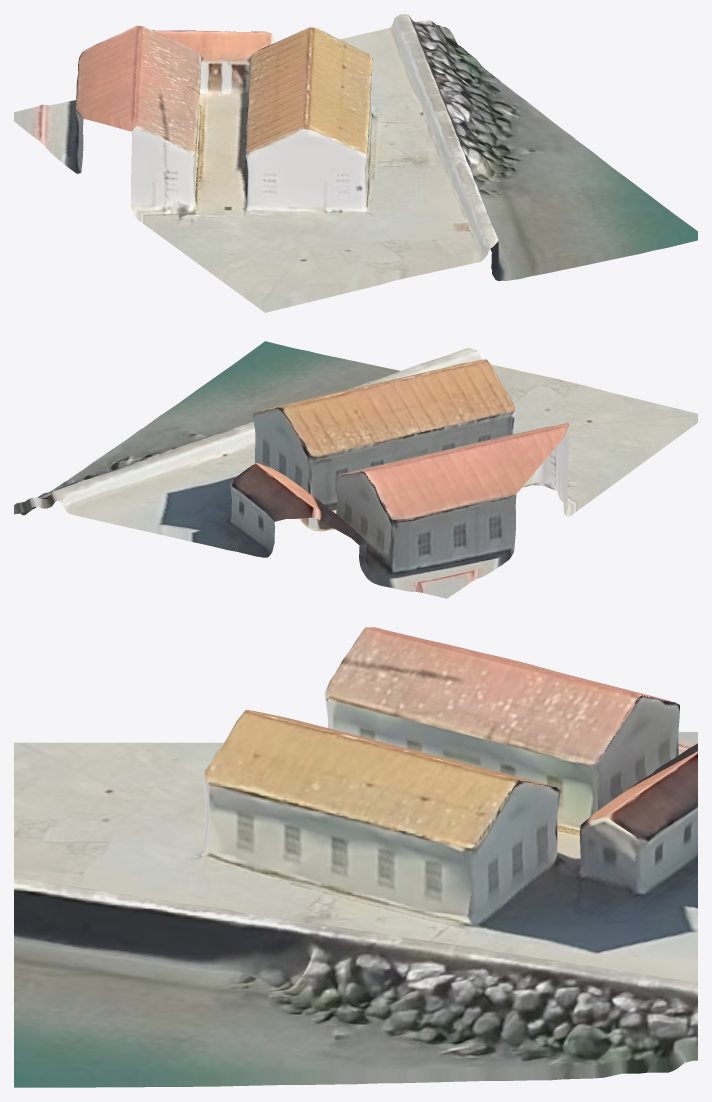
The model's file is z20-167565-405172-h0-yup-uvflip-v3-world.glb.
3 renders of one model, top to bottom at view 1: azimuth 30°, elevation 25°; view 2: azimuth 150°, elevation 25°; view 3: azimuth 270°, elevation 25°, orthographic. The views are drawn at different scales.
Bounding box in the file's own units: 30.16 × 8.52 × 30.32.
Materials: 1 (1 with a texture image).
